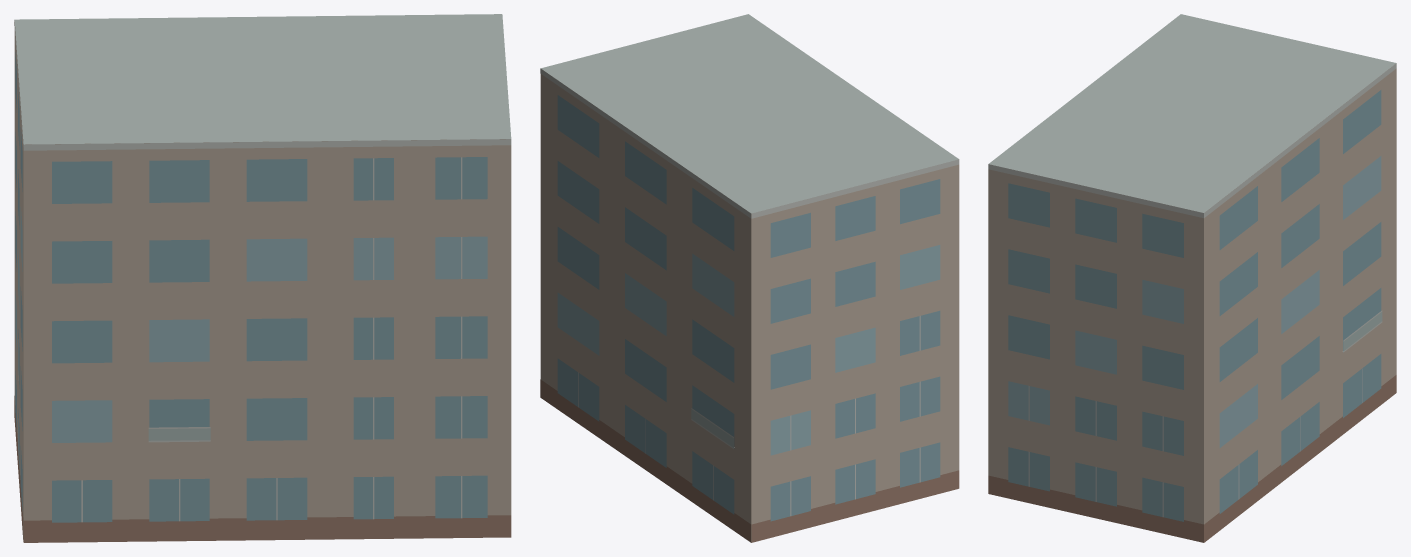
File: survey-upis-33047575.glb
The picture shows the model from 3 angles, left to right: view 1: azimuth 30°, elevation 25°; view 2: azimuth 150°, elevation 25°; view 3: azimuth 270°, elevation 25°; orthographic projection. The views are drawn at different scales.
Parts seen in each view (by area): view 1: survey-upis-33047575.tmp; view 2: survey-upis-33047575.tmp; view 3: survey-upis-33047575.tmp.
Boxes of the visible parts, x1,y1,x2,y2 form: survey-upis-33047575.tmp: (14,14,511,542); survey-upis-33047575.tmp: (540,14,959,542); survey-upis-33047575.tmp: (988,14,1396,542).
Bounding box in the file's own units: 20.07 × 15.5 × 17.4.
